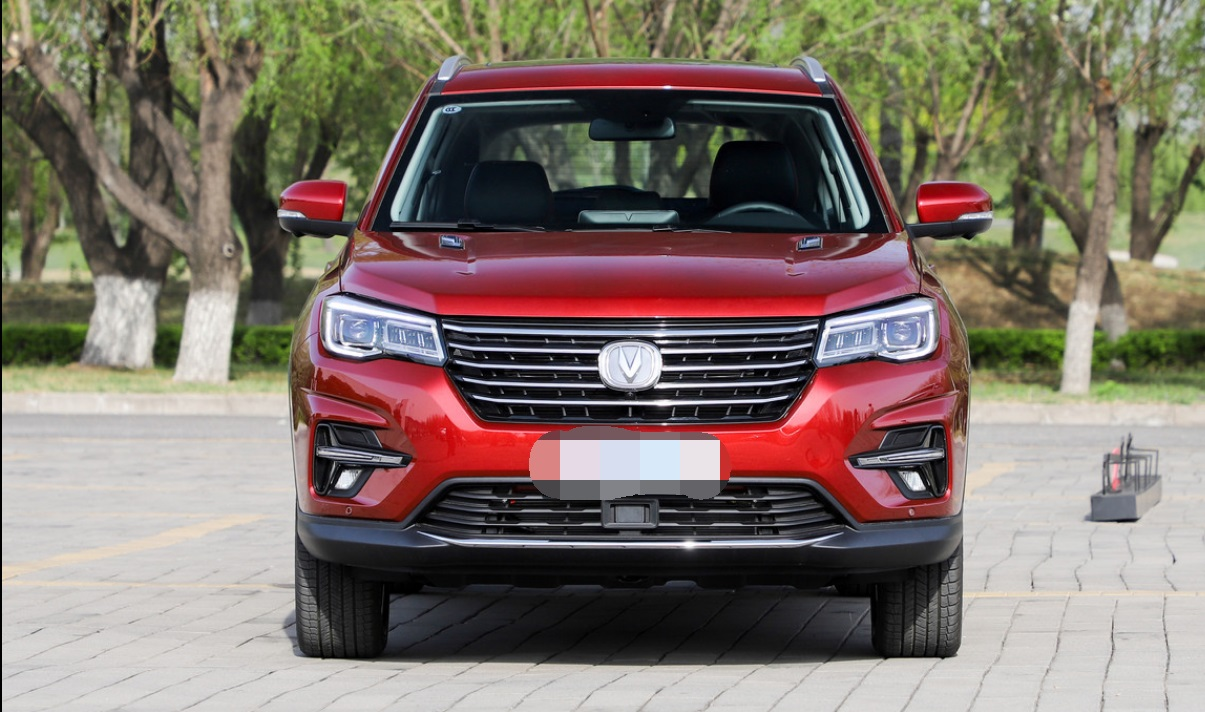SUV: (274, 53, 997, 664)
